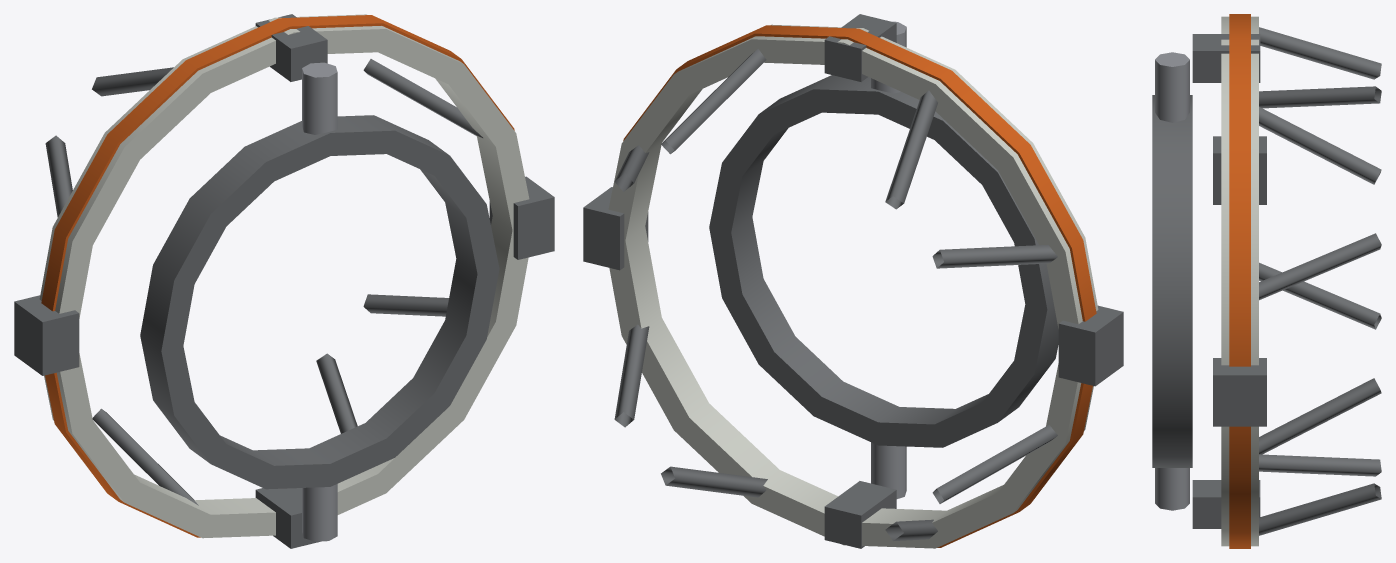
Rendered from u65m_interstage.obj.
3 renders of one model, left to right at view 1: azimuth 30°, elevation 25°; view 2: azimuth 150°, elevation 25°; view 3: azimuth 270°, elevation 25°, orthographic. The views are drawn at different scales.
Parts seen in each view (by area): view 1: u65m_interstage; view 2: u65m_interstage; view 3: u65m_interstage.
Boxes of the visible parts, x1=… form: u65m_interstage: x1=14, y1=14, x2=554, y2=548; u65m_interstage: x1=583, y1=14, x2=1123, y2=548; u65m_interstage: x1=1152, y1=14, x2=1381, y2=548.
Size of the model in its own units: 4.18 by 3.96 by 1.7.
